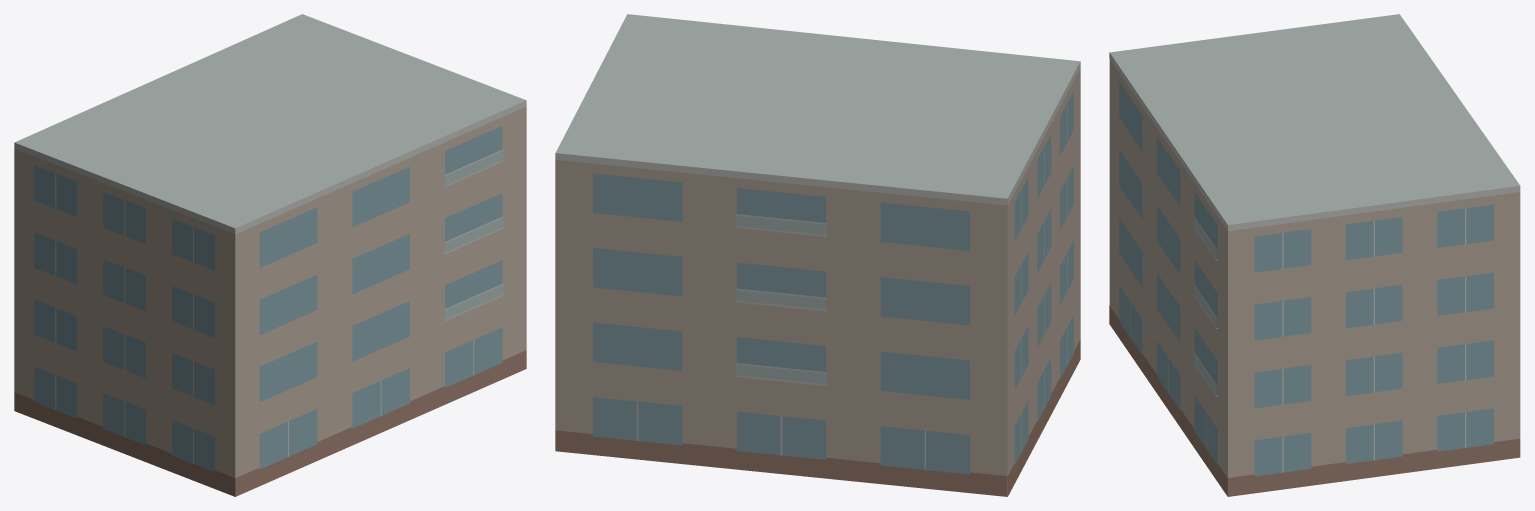
The model's file is survey-upis-32770352.glb.
The picture shows the model from 3 angles, left to right: view 1: azimuth 30°, elevation 25°; view 2: azimuth 150°, elevation 25°; view 3: azimuth 270°, elevation 25°; orthographic projection. The views are drawn at different scales.
Parts seen in each view (by area): view 1: survey-upis-32770352.tmp; view 2: survey-upis-32770352.tmp; view 3: survey-upis-32770352.tmp.
Boxes of the visible parts, x1,y1,x2,y2 form: survey-upis-32770352.tmp: (14, 14, 526, 496); survey-upis-32770352.tmp: (555, 14, 1080, 496); survey-upis-32770352.tmp: (1109, 14, 1520, 496).
Size of the model in its own units: 18 by 10.8 by 14.81.
